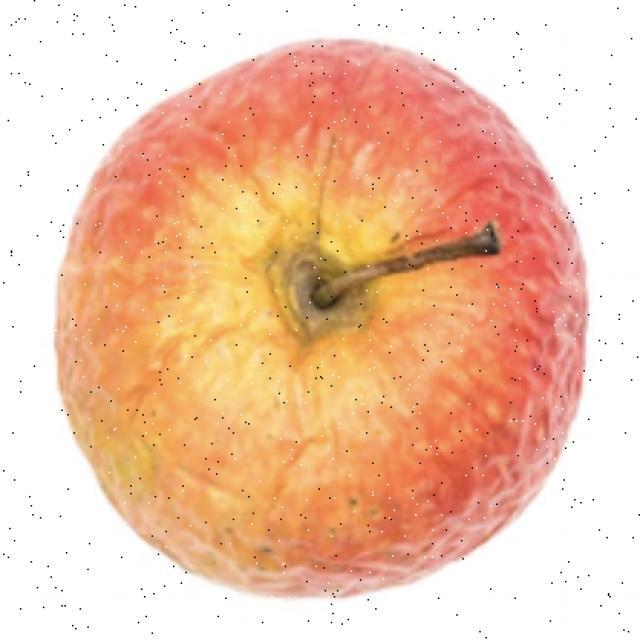Rotten: (59, 50, 584, 590)
